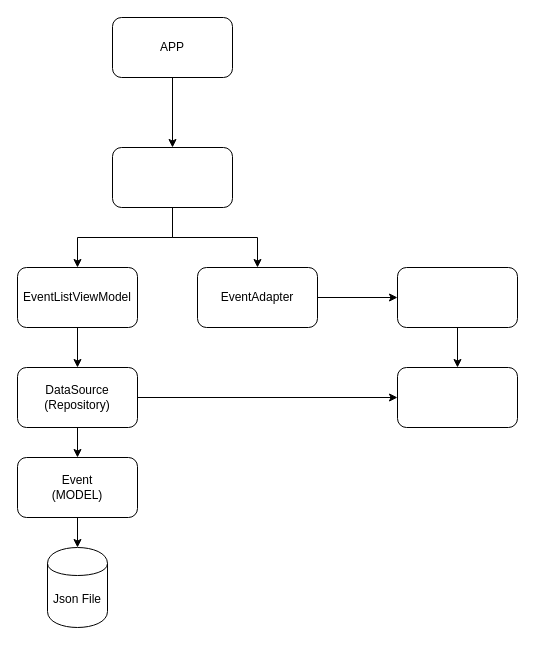
Some shapes in this 535 by 645 pixel diagram are drawn without their labels. The centre of each missing label's shape, as x and y in pixels:
"EventDetailActivity" goes at (457,297).
"EventDetailViewModel" goes at (457,397).
"EventListActivity" goes at (172,177).
